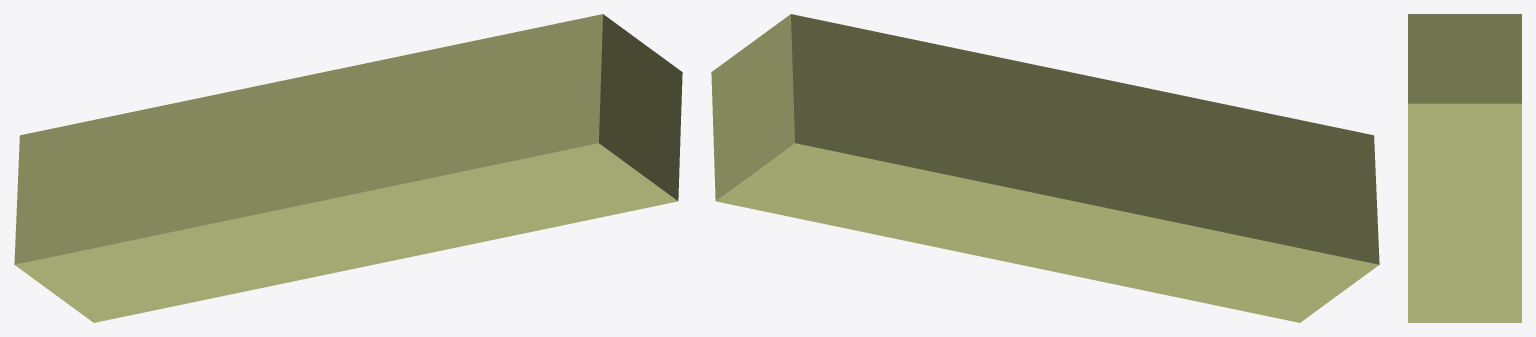
3 renders of one model, left to right at view 1: azimuth 30°, elevation 25°; view 2: azimuth 150°, elevation 25°; view 3: azimuth 270°, elevation 25°, orthographic. The views are drawn at different scales.
Parts seen in each view (by area): view 1: 0_3_2_0_2_2_1_0_0_0; view 2: 0_3_2_0_2_2_1_0_0_0; view 3: 0_3_2_0_2_2_1_0_0_0.
Part boxes in pixels (x1=…): 0_3_2_0_2_2_1_0_0_0: x1=14, y1=14, x2=682, y2=322; 0_3_2_0_2_2_1_0_0_0: x1=711, y1=14, x2=1379, y2=322; 0_3_2_0_2_2_1_0_0_0: x1=1408, y1=14, x2=1521, y2=322.
Bounding box in the file's own units: 25.65 × 6.21 × 6.
